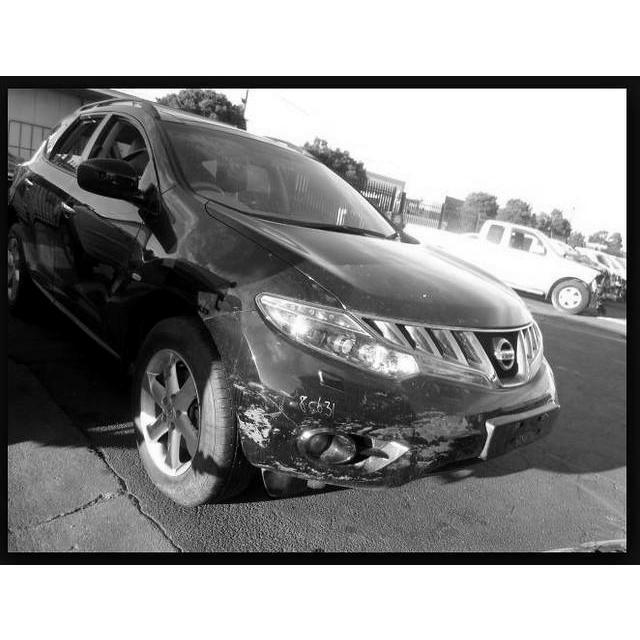front-bumper-dent: (220, 347, 485, 515)
